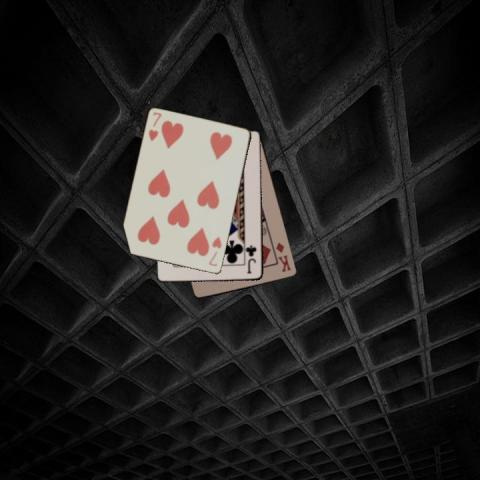7h: (145, 110, 163, 144), (206, 233, 223, 268)
Jc: (245, 243, 258, 274)
Kd: (273, 239, 292, 273)
